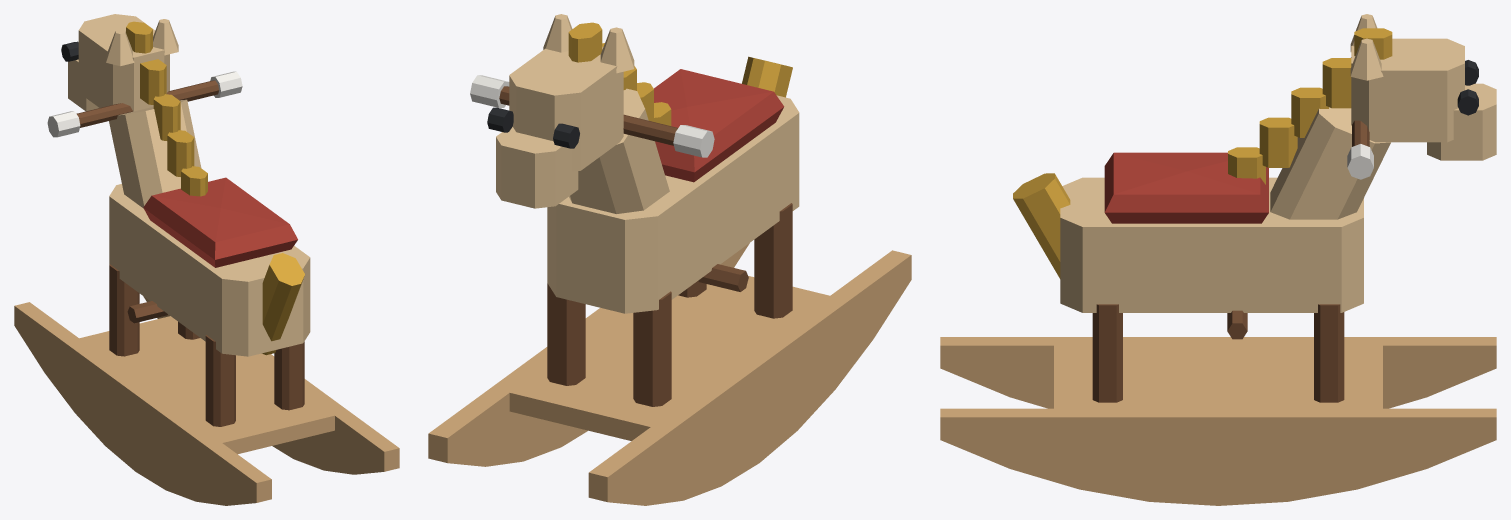
The model's file is SM_LPI_Kids_RockingHorse_01.fbx.
3 renders of one model, left to right at view 1: azimuth 30°, elevation 25°; view 2: azimuth 150°, elevation 25°; view 3: azimuth 270°, elevation 25°, orthographic. The views are drawn at different scales.
Visible parts, largest first — view 1: SM_LPI_Kids_RockingHorse_01; view 2: SM_LPI_Kids_RockingHorse_01; view 3: SM_LPI_Kids_RockingHorse_01.
Boxes of the visible parts, x1,y1,x2,y2 form: SM_LPI_Kids_RockingHorse_01: (14, 14, 399, 505); SM_LPI_Kids_RockingHorse_01: (428, 14, 911, 505); SM_LPI_Kids_RockingHorse_01: (940, 14, 1496, 505).
Bounding box in the file's own units: 0.385 × 0.7625 × 0.88.
